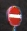No entry: (6, 5, 22, 26)
